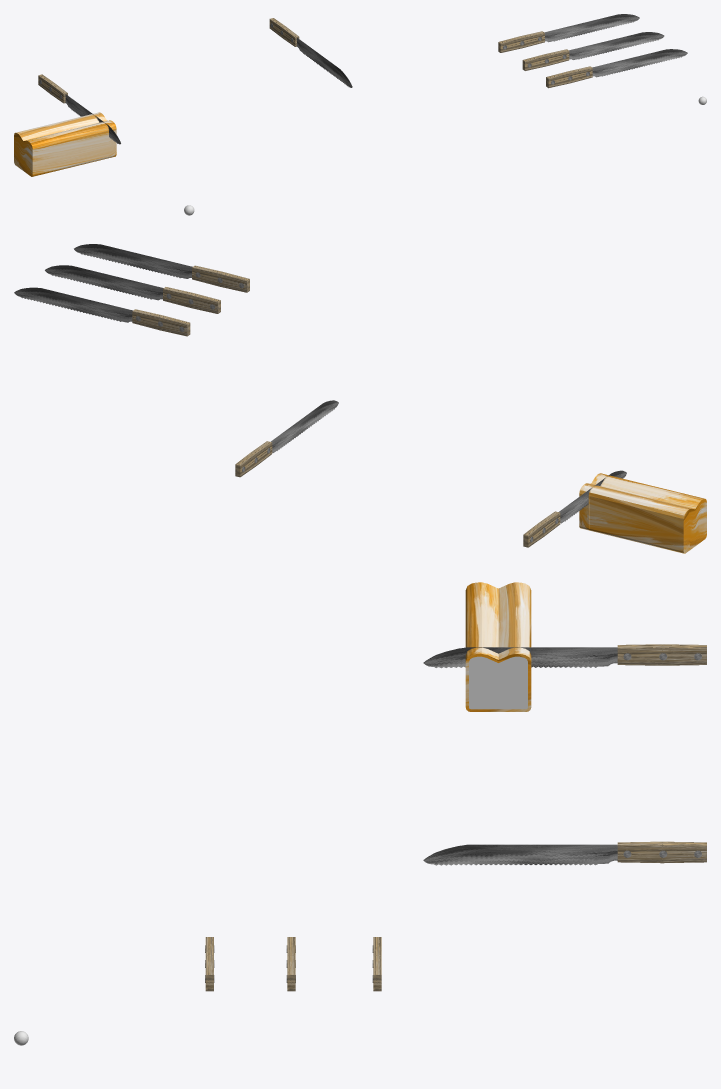
Rendered from BRECHE1.glb.
3 renders of one model, top to bottom at view 1: azimuth 30°, elevation 25°; view 2: azimuth 150°, elevation 25°; view 3: azimuth 270°, elevation 25°, orthographic. The views are drawn at different scales.
Parts seen in each view (by area): view 1: PAIN DE MIE, knife.004, knife.003, knife.002, knife.005, knife.001, bread_slice; view 2: PAIN DE MIE, knife.002, knife.004, knife.003, knife.005, knife.001; view 3: knife.005, knife.001, PAIN DE MIE, bread_slice.
Part boxes in pixels (box(x1,y1,x2,y2)): PAIN DE MIE: box(14, 114, 108, 176); knife.004: box(522, 32, 664, 70); knife.003: box(546, 49, 687, 88); knife.002: box(498, 14, 639, 52); knife.005: box(269, 18, 352, 87); knife.001: box(38, 74, 120, 144); bread_slice: box(92, 112, 116, 158); PAIN DE MIE: box(589, 475, 706, 553); knife.002: box(14, 287, 190, 336); knife.004: box(45, 265, 220, 313); knife.003: box(74, 244, 249, 292); knife.005: box(235, 400, 338, 477); knife.001: box(523, 470, 626, 547); knife.005: box(423, 841, 706, 865); knife.001: box(423, 644, 706, 668); PAIN DE MIE: box(465, 582, 531, 647); bread_slice: box(465, 647, 531, 711).
Size of what is drawn, in the model's own units: 160 by 12.18 by 94.59.
Materials: 4 (3 with a texture image).
